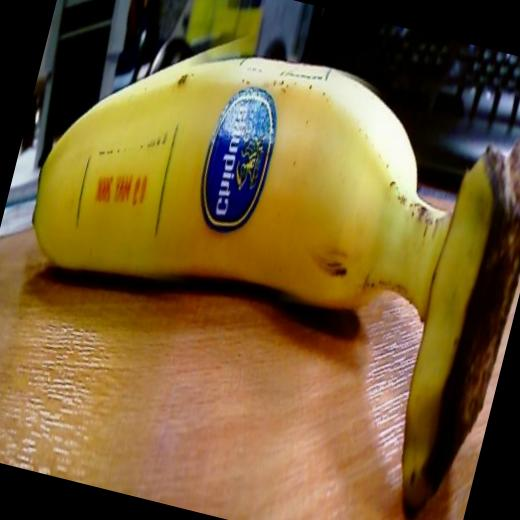Banana: (0, 4, 520, 520)
